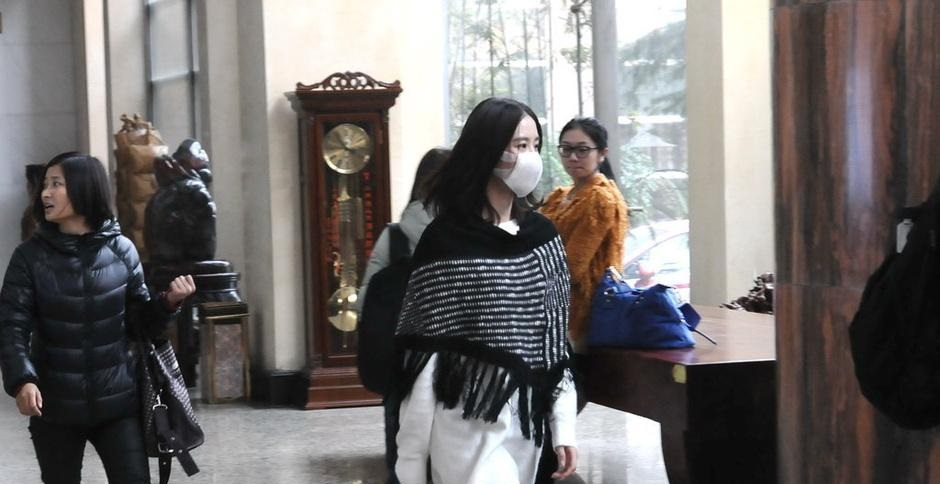face: (558, 131, 596, 177), (42, 169, 68, 218)
face_mask: (502, 128, 545, 199)
